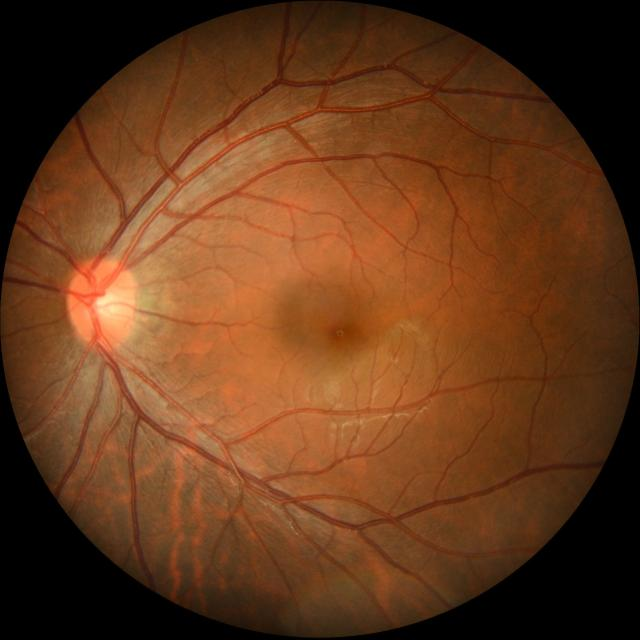OC: (93, 292, 121, 321)
OD: (66, 258, 138, 347)
